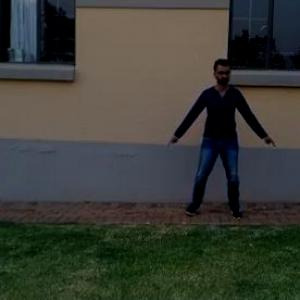land: (153, 57, 271, 234)
